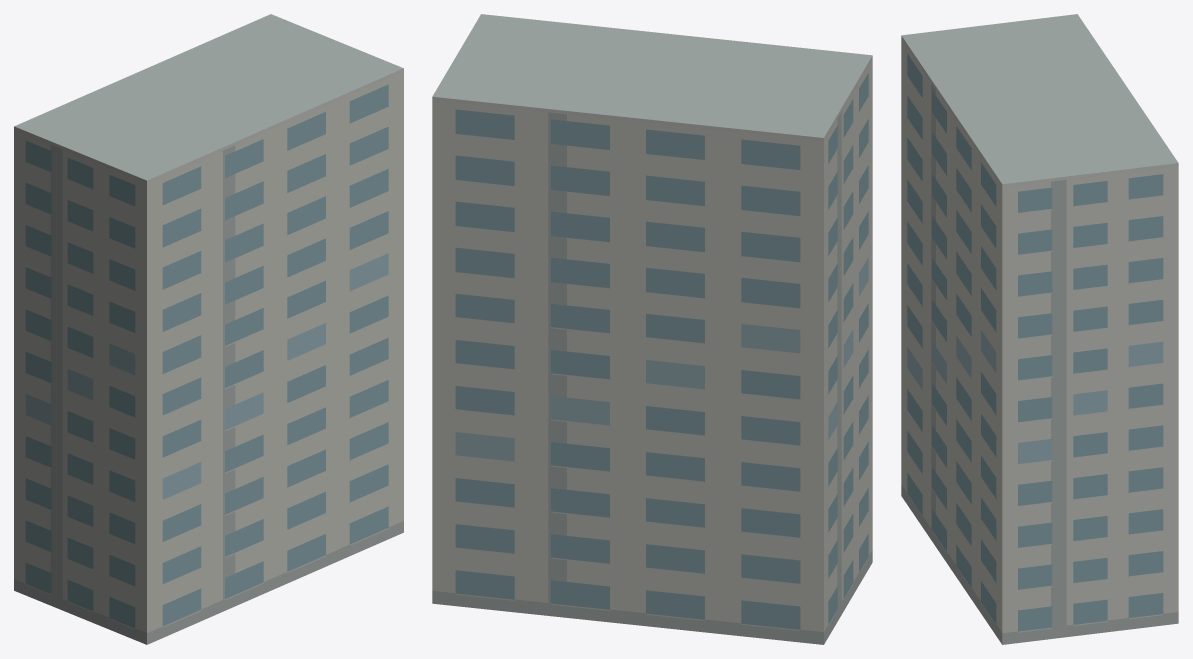
Rendered from residential-4f855385-ec67-4d07-8a5f-efddff210773.glb.
3 renders of one model, left to right at view 1: azimuth 30°, elevation 25°; view 2: azimuth 150°, elevation 25°; view 3: azimuth 270°, elevation 25°, orthographic. The views are drawn at different scales.
Visible parts, largest first — view 1: residential-4f855385-ec67-4d07-8a5f-efddff210773.tmp; view 2: residential-4f855385-ec67-4d07-8a5f-efddff210773.tmp; view 3: residential-4f855385-ec67-4d07-8a5f-efddff210773.tmp.
Part boxes in pixels (x1,y1,x2,y2): residential-4f855385-ec67-4d07-8a5f-efddff210773.tmp: (14, 14, 403, 644); residential-4f855385-ec67-4d07-8a5f-efddff210773.tmp: (432, 14, 872, 644); residential-4f855385-ec67-4d07-8a5f-efddff210773.tmp: (901, 14, 1178, 644).
Bounding box in the file's own units: 27.77 × 35 × 19.1.
